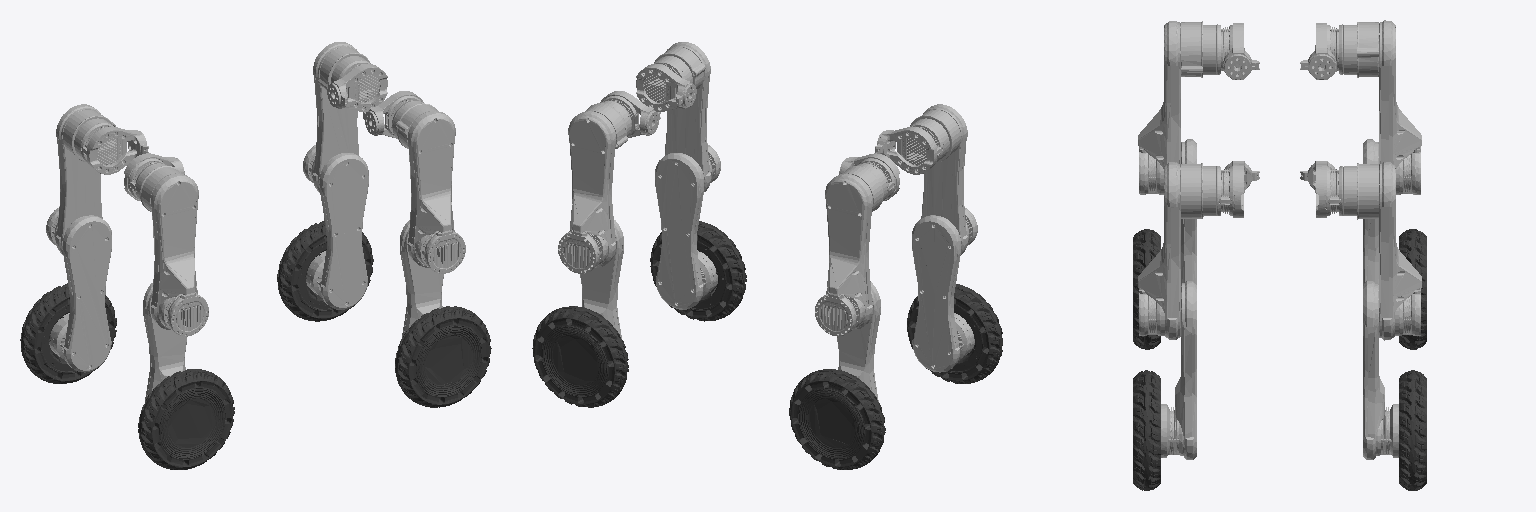
robot.urdf — S10:
<?xml version="1.0" encoding="utf-8"?>
<robot
  name="S10">
  <mujoco>
    <compiler meshdir="./meshes/" balanceinertia="false" discardvisual="false"/>
  </mujoco>
  <link
    name="base_link">
    <inertial>
      <origin
        xyz="-0.000512 0.057317 0.001182"
        rpy="0 0 0" />
      <mass
        value="8.023087" />
      <inertia
        ixx="0.115559"
        ixy="-0.000178"
        ixz="-0.000090"
        iyy="0.171329"
        iyz="-0.000650"
        izz="0.262028" />
    </inertial>
    <visual>
      <origin
        xyz="0 0 0"
        rpy="0 0 0" />
      <geometry>
        <mesh
          filename="./meshes/base_link.STL" />
      </geometry>
      <material
        name="">
        <color
          rgba="0.752941176470588 0.752941176470588 0.752941176470588 1" />
      </material>
    </visual>
    <collision>
        <origin xyz="0 0.024 0" rpy="0 1.5707963268 0"/>
        <geometry>
            <cylinder radius="0.08" length="0.60"/>
        </geometry>
    </collision>
    <collision>
        <origin xyz="0 -0.024 0" rpy="0 1.5707963268 0"/>
        <geometry>
            <cylinder radius="0.08" length="0.60"/>
        </geometry>
    </collision>
    <collision>
        <origin xyz="0 0 0" rpy="0 1.5707963268 0"/>
        <geometry>
            <box size="0.16 0.048 0.60"/>
        </geometry>
    </collision>
  </link>
  <link
    name="fl_hipx">
    <inertial>
      <origin
        xyz="-0.005034 0.023524 0.000046"
        rpy="0 0 0" />
      <mass
        value="0.627405" />
      <inertia
        ixx="0.000293"
        ixy="0.000083"
        ixz="-0.000001"
        iyy="0.000322"
        iyz="0.000002"
        izz="0.000415" />
    </inertial>
    <visual>
      <origin
        xyz="0 0 0"
        rpy="0 0 0" />
      <geometry>
        <mesh
          filename="./meshes/fl_hipx.STL" />
      </geometry>
      <material
        name="">
        <color
          rgba="0.752941176470588 0.752941176470588 0.752941176470588 1" />
      </material>
    </visual>
    <collision>
        <origin xyz="0 0.054 0" rpy="1.5707963268 0 0"/>
        <geometry>
            <cylinder radius="0.04" length="0.10"/>
        </geometry>
    </collision>
  </link>
  <joint
    name="fl_hipx_joint"
    type="revolute">
    <origin
      xyz="0.2277 0.0574 0"
      rpy="0 0 0" />
    <parent
      link="base_link" />
    <child
      link="fl_hipx" />
    <axis
      xyz="-1 0 0" />
    <limit
      lower="-0.6109"
      upper="0.6109"
      effort="50.00"
      velocity="25.76" />
  </joint>
  <link
    name="fl_hipy">
    <inertial>
      <origin
        xyz="0.000074 0.018439 -0.129675"
        rpy="0 0 0" />
      <mass
        value="0.885874" />
      <inertia
        ixx="0.004452"
        ixy="-0.000001"
        ixz="0.000000"
        iyy="0.004452"
        iyz="-0.000607"
        izz="0.000394" />
    </inertial>
    <visual>
      <origin
        xyz="0 0 0"
        rpy="0 0 0" />
      <geometry>
        <mesh
          filename="./meshes/fl_hipy.STL" />
      </geometry>
      <material
        name="">
        <color
          rgba="0.752941176470588 0.752941176470588 0.752941176470588 1" />
      </material>
    </visual>
    <collision>
        <origin xyz="0.0 0.012 -0.09" rpy="0 0 0"/>
        <geometry>
            <box size="0.064 0.024 0.18"/>
        </geometry>
    </collision>
    <collision>
        <origin xyz="0 0.018 -0.18" rpy="1.5707963268 0 0"/>
        <geometry>
            <cylinder radius="0.04" length="0.080"/>
        </geometry>
    </collision>
  </link>
  <joint
    name="fl_hipy_joint"
    type="revolute">
    <origin
      xyz="0 0.0779 0"
      rpy="0 0 0" />
    <parent
      link="fl_hipx" />
    <child
      link="fl_hipy" />
    <axis
      xyz="0 -1 0" />
    <limit
      lower="-2.5307"
      upper="2.5307"
      effort="50.00"
      velocity="25.76" />
  </joint>
  <link
    name="fl_knee">
    <inertial>
      <origin
        xyz="-0.000032 0.013504 -0.156308"
        rpy="0 0 0" />
      <mass
        value="0.640283" />
      <inertia
        ixx="0.002221"
        ixy="0.000000"
        ixz="0.000000"
        iyy="0.002154"
        iyz="-0.000385"
        izz="0.000269" />
    </inertial>
    <visual>
      <origin
        xyz="0 0 0"
        rpy="0 0 0" />
      <geometry>
        <mesh
          filename="./meshes/fl_knee.STL" />
      </geometry>
      <material
        name="">
        <color
          rgba="0.752941176470588 0.752941176470588 0.752941176470588 1" />
      </material>
    </visual>
    <collision>
        <origin xyz="0.0 -0.012 -0.09" rpy="0 0 0"/>
        <geometry>
            <box size="0.058 0.020 0.18"/>
        </geometry>
    </collision>
    <collision>
        <origin xyz="0 0.002 -0.18" rpy="1.5707963268 0 0"/>
        <geometry>
            <cylinder radius="0.04" length="0.05"/>
        </geometry>
    </collision>
  </link>
  <joint
    name="fl_knee_joint"
    type="revolute">
    <origin
      xyz="0 0 -0.18"
      rpy="0 0 0" />
    <parent
      link="fl_hipy" />
    <child
      link="fl_knee" />
    <axis
      xyz="0 -1 0" />
    <limit
      lower="-2.7227"
      upper="2.7227"
      effort="50.00"
      velocity="25.76" />
  </joint>
  <link
    name="fl_wheel">
    <inertial>
      <origin
        xyz="-0.000008 0.001694 -0.000005"
        rpy="0 0 0" />
      <mass
        value="0.587952" />
      <inertia
        ixx="0.001059"
        ixy="0.000000"
        ixz="0.000000"
        iyy="0.002003"
        iyz="0.000000"
        izz="0.001059" />
    </inertial>
    <visual>
      <origin
        xyz="0 0 0"
        rpy="0 0 0" />
      <geometry>
        <mesh
          filename="./meshes/fl_wheel.STL" />
      </geometry>
      <material
        name="">
        <color
          rgba="0.298039215686275 0.298039215686275 0.298039215686275 1" />
      </material>
    </visual>
    <collision>
        <origin xyz="0 0 0" rpy="1.5707963268 0 0"/>
        <geometry>
            <cylinder radius="0.081" length="0.037"/>
        </geometry>
    </collision>
  </link>
  <joint
    name="fl_wheel_joint"
    type="continuous">
    <origin
      xyz="0 0.045891 -0.18"
      rpy="0 0 0" />
    <parent
      link="fl_knee" />
    <child
      link="fl_wheel" />
    <axis
      xyz="0 -1 0" />
    <limit
      effort="14.00"
      velocity="65.50" />
  </joint>
  <link
    name="fr_hipx">
    <inertial>
      <origin
        xyz="-0.004831 -0.023490 0.000169"
        rpy="0 0 0" />
      <mass
        value="0.626546" />
      <inertia
        ixx="0.000292"
        ixy="-0.000087"
        ixz="0.000001"
        iyy="0.000322"
        iyz="-0.000002"
        izz="0.000415" />
    </inertial>
    <visual>
      <origin
        xyz="0 0 0"
        rpy="0 0 0" />
      <geometry>
        <mesh
          filename="./meshes/fr_hipx.STL" />
      </geometry>
      <material
        name="">
        <color
          rgba="0.752941176470588 0.752941176470588 0.752941176470588 1" />
      </material>
    </visual>
    <collision>
        <origin xyz="0 -0.054 0" rpy="1.5707963268 0 0"/>
        <geometry>
            <cylinder radius="0.04" length="0.10"/>
        </geometry>
    </collision>
  </link>
  <joint
    name="fr_hipx_joint"
    type="revolute">
    <origin
      xyz="0.2277 -0.0574 0"
      rpy="0 0 0" />
    <parent
      link="base_link" />
    <child
      link="fr_hipx" />
    <axis
      xyz="-1 0 0" />
    <limit
      lower="-0.6109"
      upper="0.6109"
      effort="50.00"
      velocity="25.76" />
  </joint>
  <link
    name="fr_hipy">
    <inertial>
      <origin
        xyz="-0.000074 -0.018439 -0.129675"
        rpy="0 0 0" />
      <mass
        value="0.885874" />
      <inertia
        ixx="0.004452"
        ixy="-0.000001"
        ixz="0.000000"
        iyy="0.004452"
        iyz="0.000607"
        izz="0.000394" />
    </inertial>
    <visual>
      <origin
        xyz="0 0 0"
        rpy="0 0 0" />
      <geometry>
        <mesh
          filename="./meshes/fr_hipy.STL" />
      </geometry>
      <material
        name="">
        <color
          rgba="0.752941176470588 0.752941176470588 0.752941176470588 1" />
      </material>
    </visual>
    <collision>
        <origin xyz="0.0 -0.012 -0.09" rpy="0 0 0"/>
        <geometry>
            <box size="0.064 0.024 0.18"/>
        </geometry>
    </collision>
    <collision>
        <origin xyz="0 -0.018 -0.18" rpy="1.5707963268 0 0"/>
        <geometry>
            <cylinder radius="0.04" length="0.080"/>
        </geometry>
    </collision>
  </link>
  <joint
    name="fr_hipy_joint"
    type="revolute">
    <origin
      xyz="0 -0.0779 0"
      rpy="0 0 0" />
    <parent
      link="fr_hipx" />
    <child
      link="fr_hipy" />
    <axis
      xyz="0 -1 0" />
    <limit
      lower="-2.5307"
      upper="2.5307"
      effort="50.00"
      velocity="25.76" />
  </joint>
  <link
    name="fr_knee">
    <inertial>
      <origin
        xyz="0.000032 -0.013504 -0.156308"
        rpy="0 0 0" />
      <mass
        value="0.640283" />
      <inertia
        ixx="0.002221"
        ixy="0.000000"
        ixz="0.000000"
        iyy="0.002154"
        iyz="0.000385"
        izz="0.000269" />
    </inertial>
    <visual>
      <origin
        xyz="0 0 0"
        rpy="0 0 0" />
      <geometry>
        <mesh
          filename="./meshes/fr_knee.STL" />
      </geometry>
      <material
        name="">
        <color
          rgba="0.752941176470588 0.752941176470588 0.752941176470588 1" />
      </material>
    </visual>
    <collision>
        <origin xyz="0.0 0.012 -0.09" rpy="0 0 0"/>
        <geometry>
            <box size="0.058 0.020 0.18"/>
        </geometry>
    </collision>
    <collision>
        <origin xyz="0 -0.002 -0.18" rpy="1.5707963268 0 0"/>
        <geometry>
            <cylinder radius="0.04" length="0.05"/>
        </geometry>
    </collision>
  </link>
  <joint
    name="fr_knee_joint"
    type="revolute">
    <origin
      xyz="0 0 -0.18"
      rpy="0 0 0" />
    <parent
      link="fr_hipy" />
    <child
      link="fr_knee" />
    <axis
      xyz="0 -1 0" />
    <limit
      lower="-2.7227"
      upper="2.7227"
      effort="50.00"
      velocity="25.76" />
  </joint>
  <link
    name="fr_wheel">
    <inertial>
      <origin
        xyz="0.000008 -0.001694 0.000005"
        rpy="0 0 0" />
      <mass
        value="0.587952" />
      <inertia
        ixx="0.001059"
        ixy="0.000000"
        ixz="0.000000"
        iyy="0.002003"
        iyz="0.000000"
        izz="0.001059" />
    </inertial>
    <visual>
      <origin
        xyz="0 0 0"
        rpy="0 0 0" />
      <geometry>
        <mesh
          filename="./meshes/fr_wheel.STL" />
      </geometry>
      <material
        name="">
        <color
          rgba="0.298039215686275 0.298039215686275 0.298039215686275 1" />
      </material>
    </visual>
    <collision>
        <origin xyz="0 0 0" rpy="1.5707963268 0 0"/>
        <geometry>
            <cylinder radius="0.081" length="0.037"/>
        </geometry>
    </collision>
  </link>
  <joint
    name="fr_wheel_joint"
    type="continuous">
    <origin
      xyz="0 -0.045891 -0.18"
      rpy="0 0 0" />
    <parent
      link="fr_knee" />
    <child
      link="fr_wheel" />
    <axis
      xyz="0 -1 0" />
    <limit
      effort="14.00"
      velocity="65.50" />
  </joint>
  <link
    name="hl_hipx">
    <inertial>
      <origin
        xyz="0.004831 0.023490 0.000169"
        rpy="0 0 0" />
      <mass
        value="0.626546" />
      <inertia
        ixx="0.000292"
        ixy="-0.000087"
        ixz="-0.000001"
        iyy="0.000322"
        iyz="0.000002"
        izz="0.000415" />
    </inertial>
    <visual>
      <origin
        xyz="0 0 0"
        rpy="0 0 0" />
      <geometry>
        <mesh
          filename="./meshes/hl_hipx.STL" />
      </geometry>
      <material
        name="">
        <color
          rgba="0.752941176470588 0.752941176470588 0.752941176470588 1" />
      </material>
    </visual>
    <collision>
        <origin xyz="0 0.054 0" rpy="1.5707963268 0 0"/>
        <geometry>
            <cylinder radius="0.04" length="0.10"/>
        </geometry>
    </collision>
  </link>
  <joint
    name="hl_hipx_joint"
    type="revolute">
    <origin
      xyz="-0.2277 0.0574 0"
      rpy="0 0 0" />
    <parent
      link="base_link" />
    <child
      link="hl_hipx" />
    <axis
      xyz="-1 0 0" />
    <limit
      lower="-0.6109"
      upper="0.6109"
      effort="50.00"
      velocity="25.76" />
  </joint>
  <link
    name="hl_hipy">
    <inertial>
      <origin
        xyz="0.000074 0.018439 -0.129675"
        rpy="0 0 0" />
      <mass
        value="0.885874" />
      <inertia
        ixx="0.004452"
        ixy="-0.000001"
        ixz="0.000000"
        iyy="0.004452"
        iyz="-0.000607"
        izz="0.000394" />
    </inertial>
    <visual>
      <origin
        xyz="0 0 0"
        rpy="0 0 0" />
      <geometry>
        <mesh
          filename="./meshes/hl_hipy.STL" />
      </geometry>
      <material
        name="">
        <color
          rgba="0.752941176470588 0.752941176470588 0.752941176470588 1" />
      </material>
    </visual>
    <collision>
        <origin xyz="0.0 0.012 -0.09" rpy="0 0 0"/>
        <geometry>
            <box size="0.064 0.024 0.18"/>
        </geometry>
    </collision>
    <collision>
        <origin xyz="0 0.018 -0.18" rpy="1.5707963268 0 0"/>
        <geometry>
            <cylinder radius="0.04" length="0.080"/>
        </geometry>
    </collision>
  </link>
  <joint
    name="hl_hipy_joint"
    type="revolute">
    <origin
      xyz="0 0.0779 0"
      rpy="0 0 0" />
    <parent
      link="hl_hipx" />
    <child
      link="hl_hipy" />
    <axis
      xyz="0 -1 0" />
    <limit
      lower="-2.5307"
      upper="2.5307"
      effort="50.00"
      velocity="25.76" />
  </joint>
  <link
    name="hl_knee">
    <inertial>
      <origin
        xyz="-0.000032 0.013504 -0.156308"
        rpy="0 0 0" />
      <mass
        value="0.640283" />
      <inertia
        ixx="0.002221"
        ixy="0.000000"
        ixz="0.000000"
        iyy="0.002154"
        iyz="-0.000385"
        izz="0.000269" />
    </inertial>
    <visual>
      <origin
        xyz="0 0 0"
        rpy="0 0 0" />
      <geometry>
        <mesh
          filename="./meshes/hl_knee.STL" />
      </geometry>
      <material
        name="">
        <color
          rgba="0.752941176470588 0.752941176470588 0.752941176470588 1" />
      </material>
    </visual>
    <collision>
        <origin xyz="0.0 -0.012 -0.09" rpy="0 0 0"/>
        <geometry>
            <box size="0.058 0.020 0.18"/>
        </geometry>
    </collision>
    <collision>
        <origin xyz="0 0.002 -0.18" rpy="1.5707963268 0 0"/>
        <geometry>
            <cylinder radius="0.04" length="0.05"/>
        </geometry>
    </collision>
  </link>
  <joint
    name="hl_knee_joint"
    type="revolute">
    <origin
      xyz="0 0 -0.18"
      rpy="0 0 0" />
    <parent
      link="hl_hipy" />
    <child
      link="hl_knee" />
    <axis
      xyz="0 -1 0" />
    <limit
      lower="-2.7227"
      upper="2.7227"
      effort="50.00"
      velocity="25.76" />
  </joint>
  <link
    name="hl_wheel">
    <inertial>
      <origin
        xyz="-0.000008 0.001694 -0.000005"
        rpy="0 0 0" />
      <mass
        value="0.587952" />
      <inertia
        ixx="0.001059"
        ixy="0.000000"
        ixz="0.000000"
        iyy="0.002003"
        iyz="0.000000"
        izz="0.001059" />
    </inertial>
    <visual>
      <origin
        xyz="0 0 0"
        rpy="0 0 0" />
      <geometry>
        <mesh
          filename="./meshes/hl_wheel.STL" />
      </geometry>
      <material
        name="">
        <color
          rgba="0.298039215686275 0.298039215686275 0.298039215686275 1" />
      </material>
    </visual>
    <collision>
        <origin xyz="0 0 0" rpy="1.5707963268 0 0"/>
        <geometry>
            <cylinder radius="0.081" length="0.037"/>
        </geometry>
    </collision>
  </link>
  <joint
    name="hl_wheel_joint"
    type="continuous">
    <origin
      xyz="0 0.045891 -0.18"
      rpy="0 0 0" />
    <parent
      link="hl_knee" />
    <child
      link="hl_wheel" />
    <axis
      xyz="0 -1 0" />
    <limit
      effort="14.00"
      velocity="65.50" />
  </joint>
  <link
    name="hr_hipx">
    <inertial>
      <origin
        xyz="0.005034 -0.023524 0.000046"
        rpy="0 0 0" />
      <mass
        value="0.627405" />
      <inertia
        ixx="0.000293"
        ixy="0.000083"
        ixz="0.000001"
        iyy="0.000322"
        iyz="-0.000002"
        izz="0.000415" />
    </inertial>
    <visual>
      <origin
        xyz="0 0 0"
        rpy="0 0 0" />
      <geometry>
        <mesh
          filename="./meshes/hr_hipx.STL" />
      </geometry>
      <material
        name="">
        <color
          rgba="0.752941176470588 0.752941176470588 0.752941176470588 1" />
      </material>
    </visual>
    <collision>
        <origin xyz="0 -0.054 0" rpy="1.5707963268 0 0"/>
        <geometry>
            <cylinder radius="0.04" length="0.10"/>
        </geometry>
    </collision>
  </link>
  <joint
    name="hr_hipx_joint"
    type="revolute">
    <origin
      xyz="-0.2277 -0.0574 0"
      rpy="0 0 0" />
    <parent
      link="base_link" />
    <child
      link="hr_hipx" />
    <axis
      xyz="-1 0 0" />
    <limit
      lower="-0.6109"
      upper="0.6109"
      effort="50.00"
      velocity="25.76" />
  </joint>
  <link
    name="hr_hipy">
    <inertial>
      <origin
        xyz="-0.000074 -0.018439 -0.129675"
        rpy="0 0 0" />
      <mass
        value="0.885874" />
      <inertia
        ixx="0.004452"
        ixy="-0.000001"
        ixz="0.000000"
        iyy="0.004452"
        iyz="0.000607"
        izz="0.000394" />
    </inertial>
    <visual>
      <origin
        xyz="0 0 0"
        rpy="0 0 0" />
      <geometry>
        <mesh
          filename="./meshes/hr_hipy.STL" />
      </geometry>
      <material
        name="">
        <color
          rgba="0.752941176470588 0.752941176470588 0.752941176470588 1" />
      </material>
    </visual>
    <collision>
        <origin xyz="0.0 -0.012 -0.09" rpy="0 0 0"/>
        <geometry>
            <box size="0.064 0.024 0.18"/>
        </geometry>
    </collision>
    <collision>
        <origin xyz="0 -0.018 -0.18" rpy="1.5707963268 0 0"/>
        <geometry>
            <cylinder radius="0.04" length="0.080"/>
        </geometry>
    </collision>
  </link>
  <joint
    name="hr_hipy_joint"
    type="revolute">
    <origin
      xyz="0 -0.0779 0"
      rpy="0 0 0" />
    <parent
      link="hr_hipx" />
    <child
      link="hr_hipy" />
    <axis
      xyz="0 -1 0" />
    <limit
      lower="-2.5307"
      upper="2.5307"
      effort="50.00"
      velocity="25.76" />
  </joint>
  <link
    name="hr_knee">
    <inertial>
      <origin
        xyz="0.000032 -0.013504 -0.156308"
        rpy="0 0 0" />
      <mass
        value="0.640283" />
      <inertia
        ixx="0.002221"
        ixy="0.000000"
        ixz="0.000000"
        iyy="0.002154"
        iyz="0.000385"
        izz="0.000269" />
    </inertial>
    <visual>
      <origin
        xyz="0 0 0"
        rpy="0 0 0" />
      <geometry>
        <mesh
          filename="./meshes/hr_knee.STL" />
      </geometry>
      <material
        name="">
        <color
          rgba="0.752941176470588 0.752941176470588 0.752941176470588 1" />
      </material>
    </visual>
    <collision>
        <origin xyz="0.0 0.012 -0.09" rpy="0 0 0"/>
        <geometry>
            <box size="0.058 0.020 0.18"/>
        </geometry>
    </collision>
    <collision>
        <origin xyz="0 -0.002 -0.18" rpy="1.5707963268 0 0"/>
        <geometry>
            <cylinder radius="0.04" length="0.05"/>
        </geometry>
    </collision>
  </link>
  <joint
    name="hr_knee_joint"
    type="revolute">
    <origin
      xyz="0 0 -0.18"
      rpy="0 0 0" />
    <parent
      link="hr_hipy" />
    <child
      link="hr_knee" />
    <axis
      xyz="0 -1 0" />
    <limit
      lower="-2.7227"
      upper="2.7227"
      effort="50.00"
      velocity="25.76" />
  </joint>
  <link
    name="hr_wheel">
    <inertial>
      <origin
        xyz="0.000008 -0.001694 0.000005"
        rpy="0 0 0" />
      <mass
        value="0.587952" />
      <inertia
        ixx="0.001059"
        ixy="0.000000"
        ixz="0.000000"
        iyy="0.002003"
        iyz="0.000000"
        izz="0.001059" />
    </inertial>
    <visual>
      <origin
        xyz="0 0 0"
        rpy="0 0 0" />
      <geometry>
        <mesh
          filename="./meshes/hr_wheel.STL" />
      </geometry>
      <material
        name="">
        <color
          rgba="0.298039215686275 0.298039215686275 0.298039215686275 1" />
      </material>
    </visual>
    <collision>
        <origin xyz="0 0 0" rpy="1.5707963268 0 0"/>
        <geometry>
            <cylinder radius="0.081" length="0.037"/>
        </geometry>
    </collision>
  </link>
  <joint
    name="hr_wheel_joint"
    type="continuous">
    <origin
      xyz="0 -0.045891 -0.18"
      rpy="0 0 0" />
    <parent
      link="hr_knee" />
    <child
      link="hr_wheel" />
    <axis
      xyz="0 -1 0" />
    <limit
      effort="14.00"
      velocity="65.50" />
  </joint>
  <link name = "imu_link"/>
  <joint name="imu_joint" type="fixed">
    <origin
      xyz="0.0075 -0.0373 0.0556"
      rpy="1.57 1.57 0" />
    <parent
      link="base_link" />
    <child
      link="imu_link" />
  </joint>
  <link name = "front_lidar_link"/>
  <joint name="front_lidar_joint" type="fixed">
    <origin
      xyz="0.22341 0.0 -0.0001"
      rpy="0 0 0" />
    <parent
      link="base_link" />
    <child
      link="front_lidar_link" />
  </joint>
  <link name = "back_lidar_link"/>
  <joint name="back_lidar_joint" type="fixed">
    <origin
      xyz="-0.22341 0.0 -0.0001"
      rpy="0 0 3.14159" />
    <parent
      link="base_link" />
    <child
      link="back_lidar_link" />
  </joint>
</robot>

--- Render facts (derived) ---
3 views of the same robot in one strip: view 1: azimuth 30°, elevation 25°; view 2: azimuth 150°, elevation 25°; view 3: azimuth 270°, elevation 25° (orthographic).
Model S10 with 20 links and 19 joints (12 revolute, 4 continuous, 3 fixed), rooted at base_link, posed every joint at zero.
Links seen in each view (by area): view 1: hr_wheel, fr_wheel, fr_hipy, hr_hipy, fl_knee, hl_knee, hl_wheel, fl_wheel, hl_hipx, hl_hipy, fl_hipx, fl_hipy (+4 smaller); view 2: fl_wheel, hl_wheel, fl_hipy, hl_hipy, hr_knee, fr_knee, fr_wheel, hr_wheel, hr_hipx, hr_hipy, fr_hipx, fr_hipy (+4 smaller); view 3: fl_hipy, fr_hipy, hl_hipy, hr_hipy, fl_knee, fr_knee, hl_hipx, fr_hipx, fl_hipx, hr_hipx, fl_wheel, fr_wheel (+4 smaller).
Boxes of the visible links, left/top/right/bottom form: hr_wheel: left=138, top=369, right=234, bottom=469; fr_wheel: left=395, top=306, right=491, bottom=407; fr_hipy: left=406, top=111, right=465, bottom=273; hr_hipy: left=151, top=174, right=208, bottom=335; fl_knee: left=306, top=153, right=368, bottom=309; hl_knee: left=49, top=215, right=111, bottom=372; hl_wheel: left=20, top=283, right=116, bottom=383; fl_wheel: left=277, top=221, right=373, bottom=321; hl_hipx: left=63, top=110, right=148, bottom=174; hl_hipy: left=46, top=104, right=102, bottom=255; fl_hipx: left=318, top=47, right=387, bottom=111; fl_hipy: left=303, top=42, right=358, bottom=192; fl_wheel: left=532, top=306, right=628, bottom=407; hl_wheel: left=789, top=369, right=885, bottom=469; fl_hipy: left=558, top=111, right=616, bottom=273; hl_hipy: left=815, top=174, right=872, bottom=335; hr_knee: left=912, top=215, right=974, bottom=372; fr_knee: left=655, top=153, right=717, bottom=309; fr_wheel: left=650, top=221, right=746, bottom=321; hr_wheel: left=907, top=284, right=1002, bottom=383; hr_hipx: left=875, top=110, right=960, bottom=174; hr_hipy: left=921, top=104, right=977, bottom=255; fr_hipx: left=636, top=47, right=705, bottom=111; fr_hipy: left=665, top=42, right=720, bottom=191; fl_hipy: left=1379, top=162, right=1421, bottom=340; fr_hipy: left=1138, top=162, right=1180, bottom=339; hl_hipy: left=1379, top=20, right=1421, bottom=194; hr_hipy: left=1138, top=21, right=1180, bottom=194; fl_knee: left=1363, top=281, right=1398, bottom=459; fr_knee: left=1161, top=281, right=1196, bottom=459; hl_hipx: left=1300, top=22, right=1378, bottom=79; fr_hipx: left=1181, top=161, right=1259, bottom=218; fl_hipx: left=1300, top=161, right=1378, bottom=219; hr_hipx: left=1181, top=21, right=1259, bottom=79; fl_wheel: left=1399, top=370, right=1426, bottom=490; fr_wheel: left=1133, top=370, right=1160, bottom=490.
Size in the robot's own frame: 0.6206 by 0.3999 by 0.4823 metres.
Meshes: 17 distinct files referenced, 16 mesh visuals loaded (16 binary STL); not drawn: 1 (reference not matched to a file when rendering).
